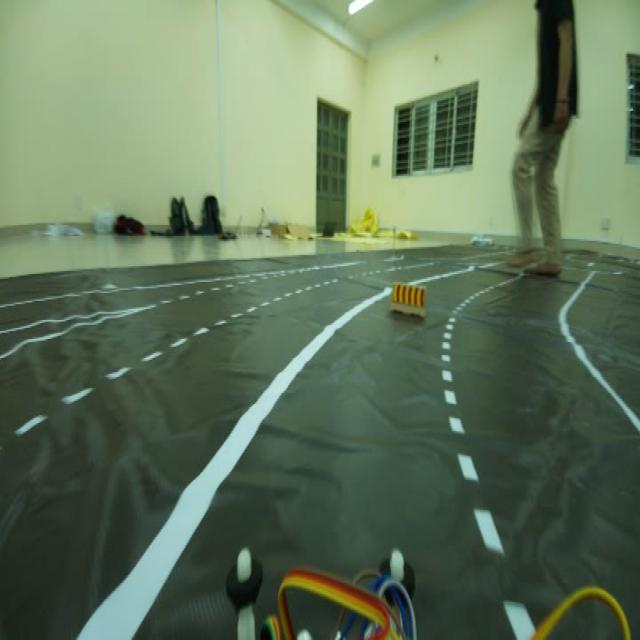roadblock: (391, 271, 434, 326)
